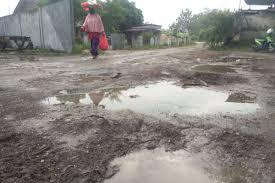Pothole: (39, 74, 275, 123), (77, 136, 237, 183), (200, 54, 250, 91)
